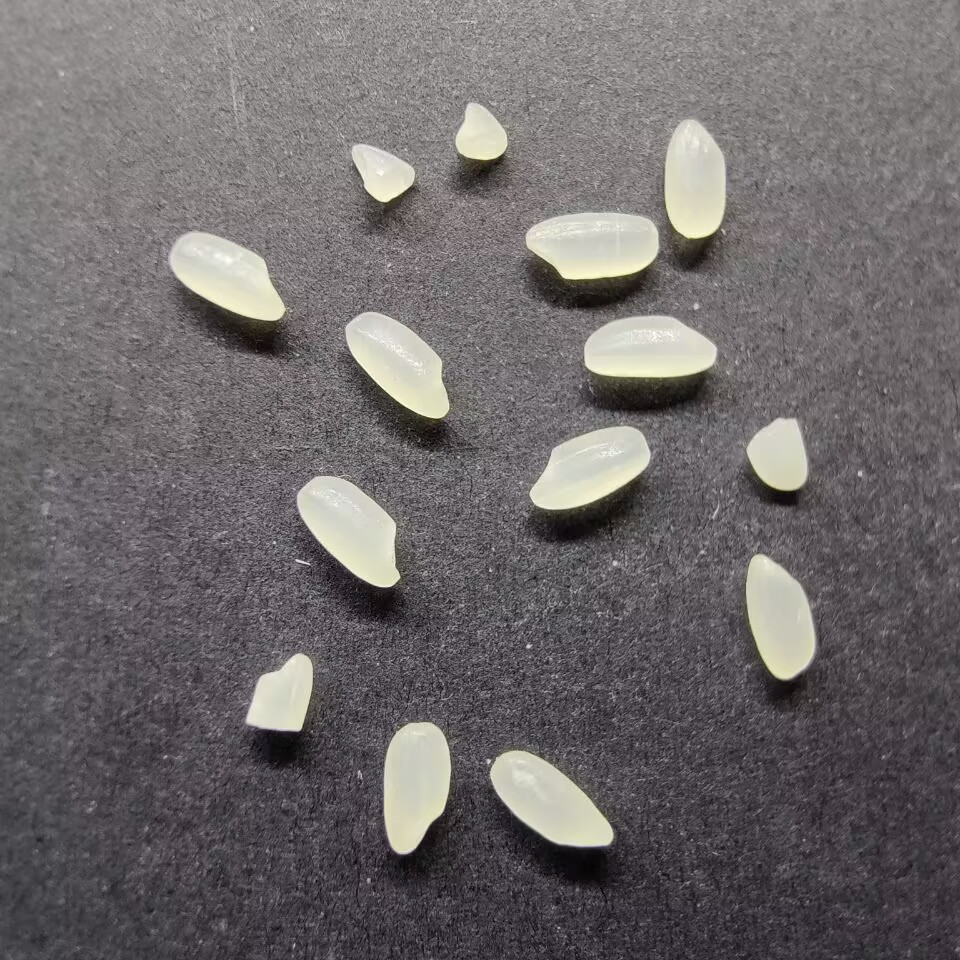broken: (245, 649, 316, 734), (744, 414, 807, 493), (346, 141, 419, 203), (450, 99, 510, 162)
rice: (486, 747, 615, 850), (293, 474, 404, 590), (343, 309, 450, 419), (167, 229, 287, 324), (529, 424, 653, 511), (742, 549, 819, 681), (522, 209, 660, 282), (380, 720, 452, 856), (581, 314, 720, 379), (661, 113, 729, 241)
